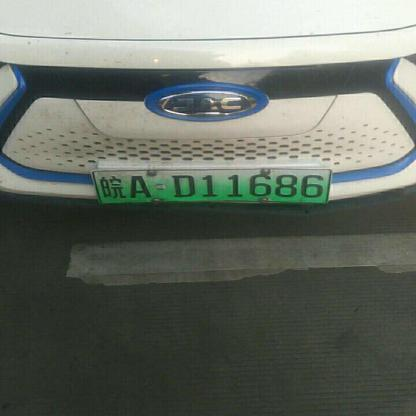lp: (94, 168, 330, 203)
